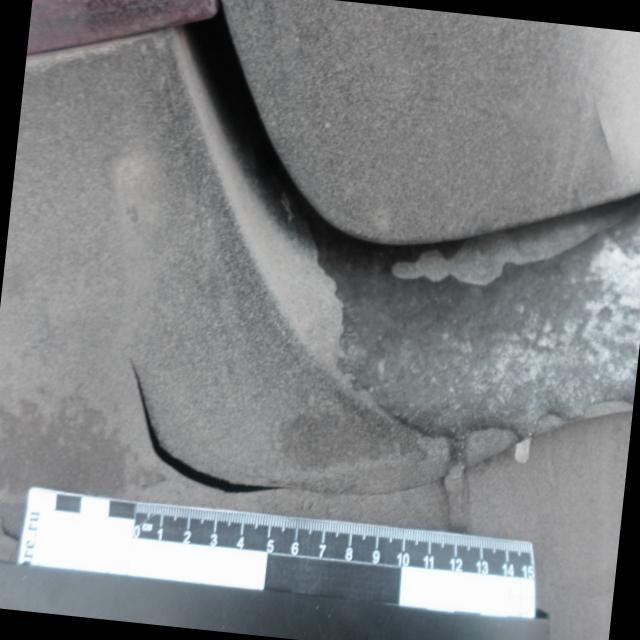Dechirure: (295, 374, 633, 545), (93, 353, 299, 500), (0, 507, 23, 554)
